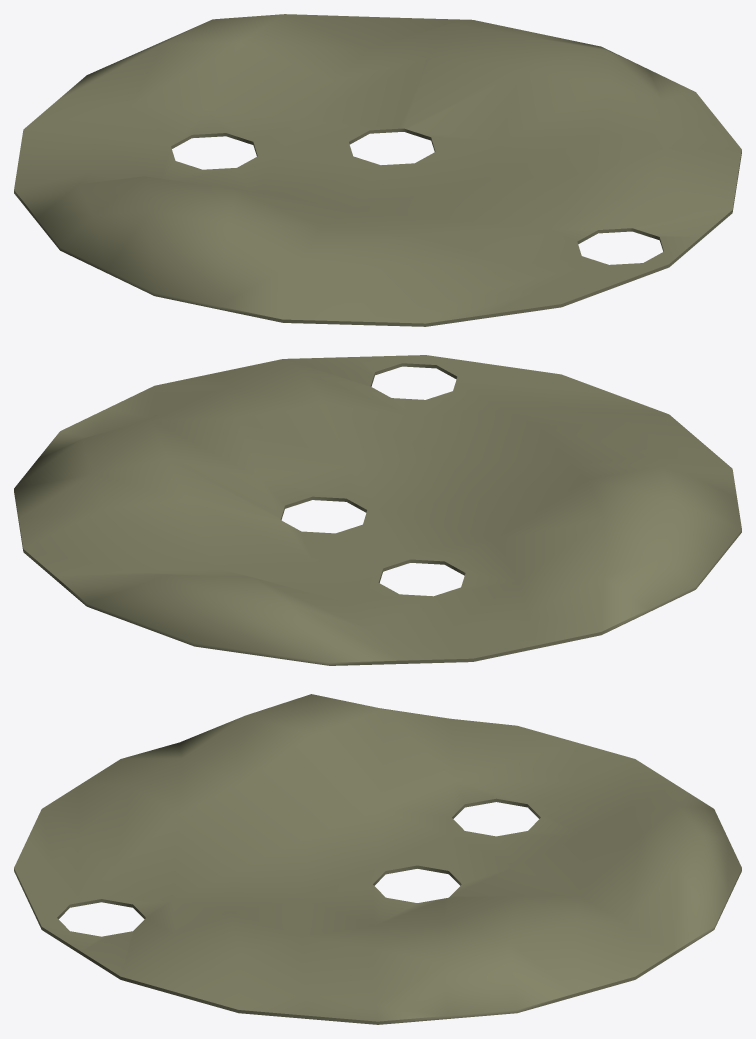
Rendered from rabbitHoleRotCollider.glb.
3 views of the same model, one above another, from view 1: azimuth 30°, elevation 25°; view 2: azimuth 150°, elevation 25°; view 3: azimuth 270°, elevation 25° (orthographic).
Visible parts, largest first — view 1: rabbitHole_collider; view 2: rabbitHole_collider; view 3: rabbitHole_collider.
Boxes of the visible parts, x1,y1,x2,y2 form: rabbitHole_collider: [14, 14, 741, 326]; rabbitHole_collider: [14, 355, 741, 665]; rabbitHole_collider: [14, 694, 741, 1024].
Size of the model in its own units: 18.44 by 1.41 by 18.44.
